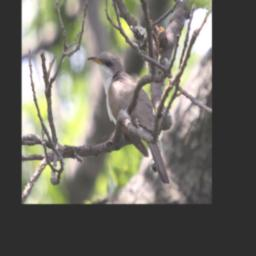Cuckoo: (86, 48, 170, 189)
